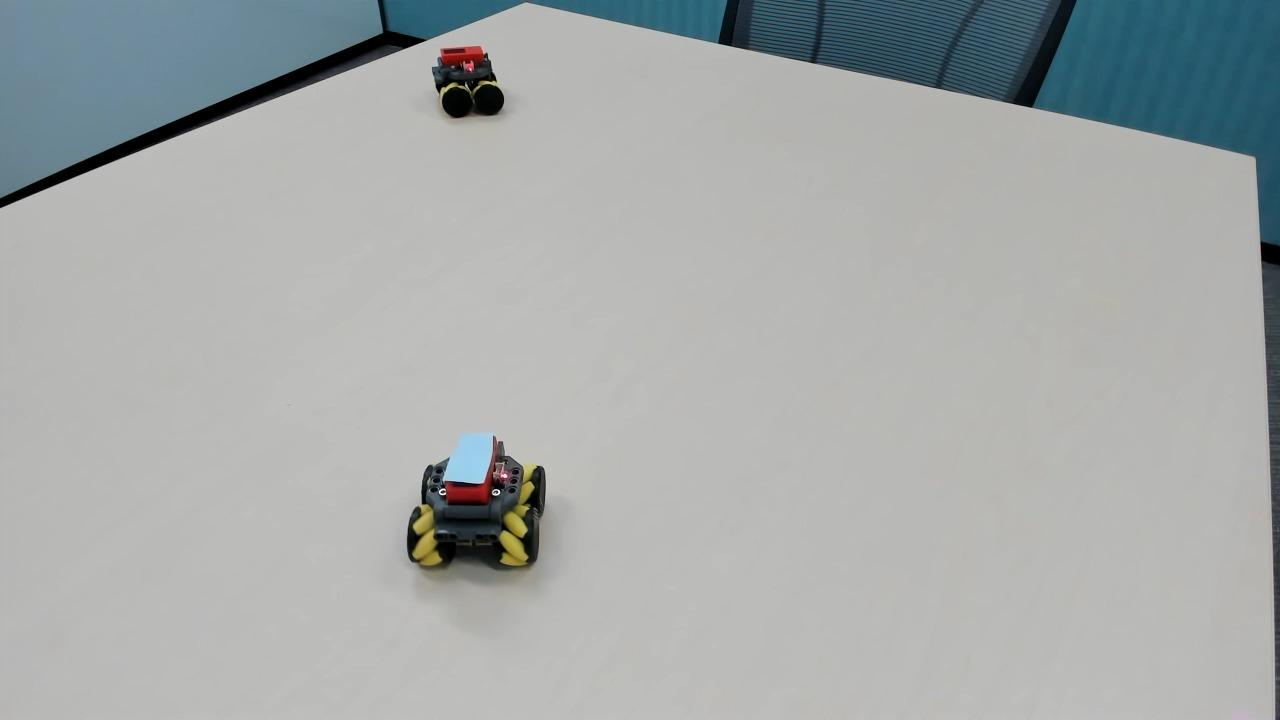B-Robot: (391, 415, 564, 594)
R-Robot: (423, 39, 521, 133)
